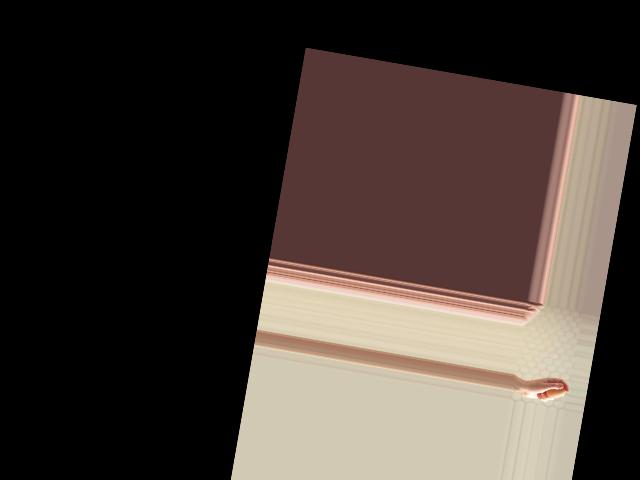egg: (544, 382, 566, 400)
